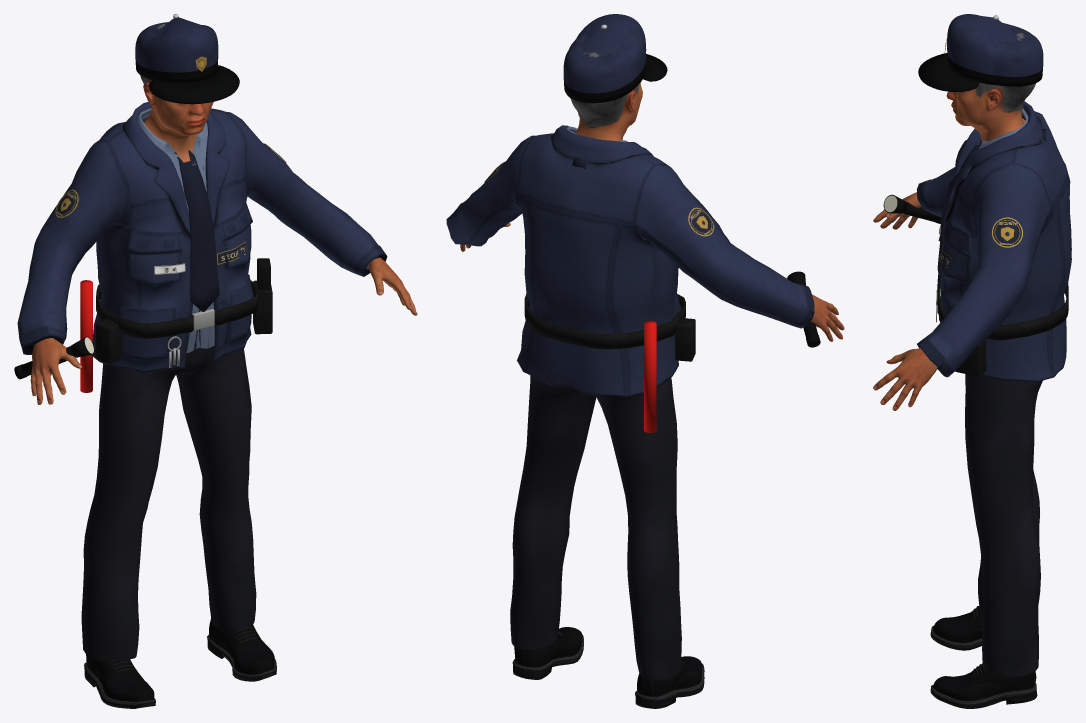
Rendered from guard.obj.
3 views of the same model, side by side, from view 1: azimuth 30°, elevation 25°; view 2: azimuth 150°, elevation 25°; view 3: azimuth 270°, elevation 25° (orthographic).
Visible parts, largest first — view 1: Guard_Suit, Guard_Body, Guard_Shoes, Guard_Cap, Guard_Tie, Guard_Belt, Guard_CapBrim, Guard_Baton, Guard_Holster, Guard_RadioPouch; view 2: Guard_Suit, Guard_Cap, Guard_Shoes, Guard_Belt, Guard_Body, Guard_Baton, Guard_Hair, Guard_Holster; view 3: Guard_Suit, Guard_Cap, Guard_Body, Guard_Shoes, Guard_Belt, Guard_CapBrim, Guard_Hair, Guard_PatchShoulder_L, Guard_RadioPouch, Guard_Flashlight, Guard_Tie.
Boxes of the visible parts, box(x1,y1,x2,y2) form: Guard_Suit: box(17, 102, 387, 661); Guard_Body: box(30, 81, 417, 404); Guard_Shoes: box(84, 618, 276, 708); Guard_Cap: box(135, 17, 218, 82); Guard_Tie: box(177, 150, 219, 311); Guard_Belt: box(96, 280, 258, 338); Guard_CapBrim: box(149, 65, 239, 104); Guard_Baton: box(80, 280, 92, 392); Guard_Holster: box(96, 318, 121, 363); Guard_RadioPouch: box(253, 280, 272, 334); Guard_Suit: box(446, 125, 814, 680); Guard_Cap: box(563, 14, 646, 103); Guard_Shoes: box(512, 627, 704, 708); Guard_Belt: box(524, 294, 685, 349); Guard_Body: box(460, 83, 844, 341); Guard_Baton: box(644, 320, 656, 432); Guard_Hair: box(570, 51, 638, 128); Guard_Holster: box(675, 318, 695, 361); Guard_Suit: box(916, 101, 1071, 676); Guard_Cap: box(947, 14, 1043, 86); Guard_Body: box(873, 87, 1025, 410); Guard_Shoes: box(930, 606, 1037, 708); Guard_Belt: box(937, 283, 1068, 340); Guard_CapBrim: box(918, 53, 979, 91); Guard_Hair: box(975, 33, 1035, 112); Guard_PatchShoulder_L: box(991, 217, 1022, 247); Guard_RadioPouch: box(955, 339, 986, 376); Guard_Flashlight: box(883, 194, 941, 223); Guard_Tie: box(937, 144, 980, 288).
Size of the model in its own units: 1.1 by 1.84 by 0.5073.
